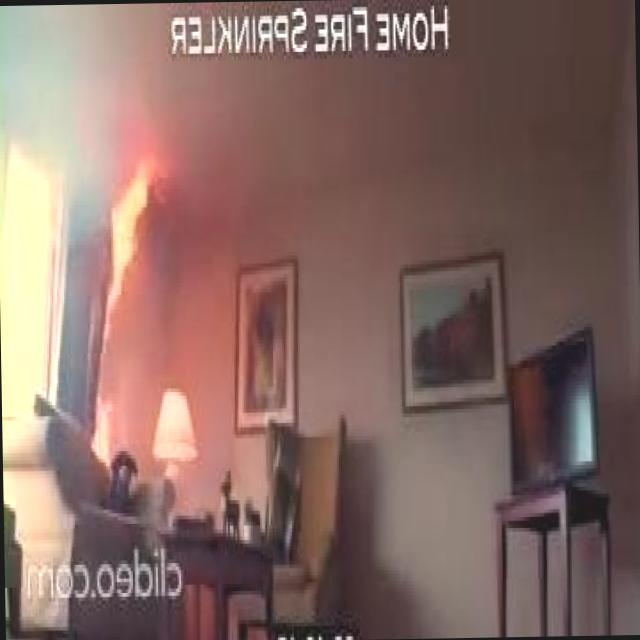fire: (58, 135, 190, 388)
